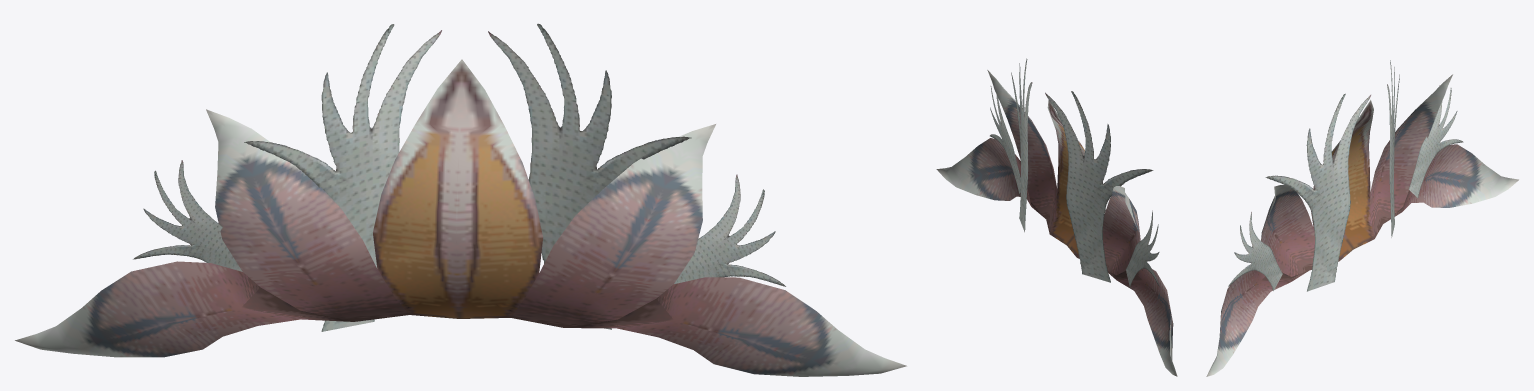
The model's file is flamingo05_lvs.obj.
3 views of the same model, side by side, from view 1: azimuth 30°, elevation 25°; view 2: azimuth 150°, elevation 25°; view 3: azimuth 270°, elevation 25° (orthographic). The views are drawn at different scales.
Visible parts, largest first — view 1: flamingo05_lvs; view 2: flamingo05_lvs; view 3: flamingo05_lvs.
Boxes of the visible parts, x1,y1,x2,y2 form: flamingo05_lvs: [15, 23, 906, 376]; flamingo05_lvs: [936, 58, 1177, 376]; flamingo05_lvs: [1206, 60, 1518, 376].
Size of the model in its own units: 13.99 by 6.92 by 9.39.
2 materials, 2 textured.
